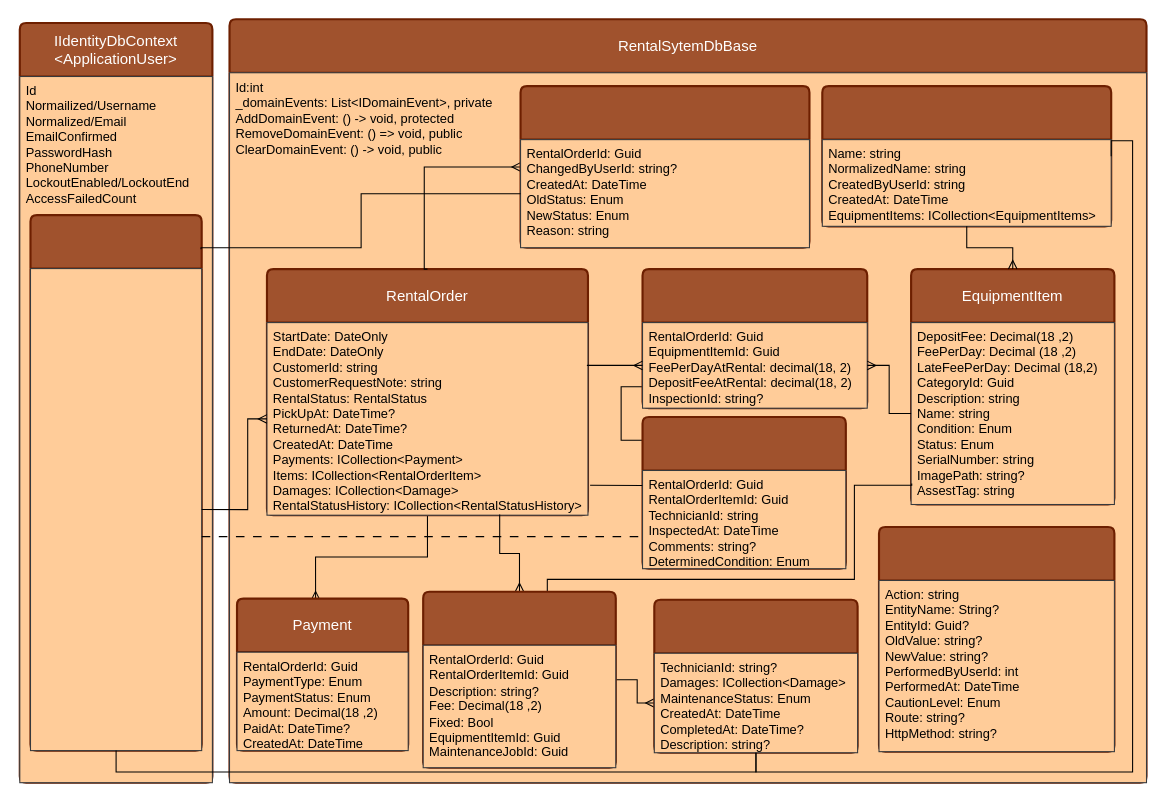
This 1165x803 diagram has some shape labels left out. Here are the shapes that lost their labels. From the top down, the box of each, then its label:
(519, 85, 810, 248): RentalStatusHistory
(821, 85, 1112, 227): EquipmentCategory
(641, 268, 868, 409): RentalOrderItem
(29, 213, 202, 751): ApplicationUser
(641, 415, 846, 569): Inspection
(29, 268, 202, 751): EmployeeStatus: Enum? IsBanned: Bool
(877, 525, 1115, 752): (Treat as Event table) Audit
(422, 590, 616, 768): Damage
(653, 598, 858, 753): MaintenanceJob
